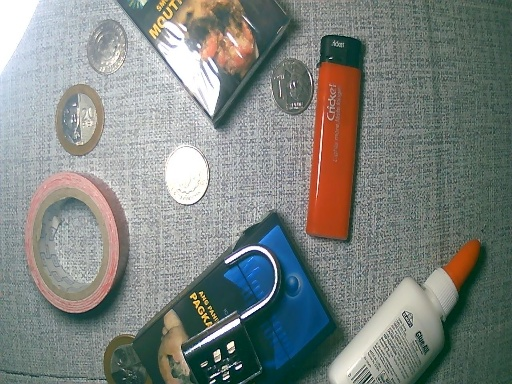cardboard: (133, 212, 330, 384), (119, 1, 294, 131)
metal: (175, 251, 283, 381), (49, 82, 107, 158), (164, 141, 209, 207), (268, 60, 312, 119), (86, 20, 130, 75), (101, 336, 142, 384)
trash: (323, 238, 488, 384), (24, 179, 129, 312), (315, 28, 360, 248)
